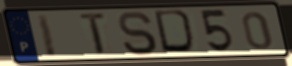0: (239, 10, 276, 51)
5: (199, 8, 235, 55)
D: (152, 8, 200, 56)
I: (34, 12, 59, 59)
S: (116, 10, 160, 57)
T: (79, 11, 109, 58)
